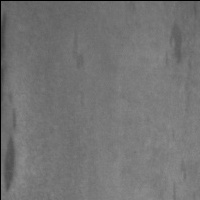inclusion: (1, 90, 25, 195), (162, 18, 190, 69), (65, 32, 88, 71), (173, 156, 191, 184)
